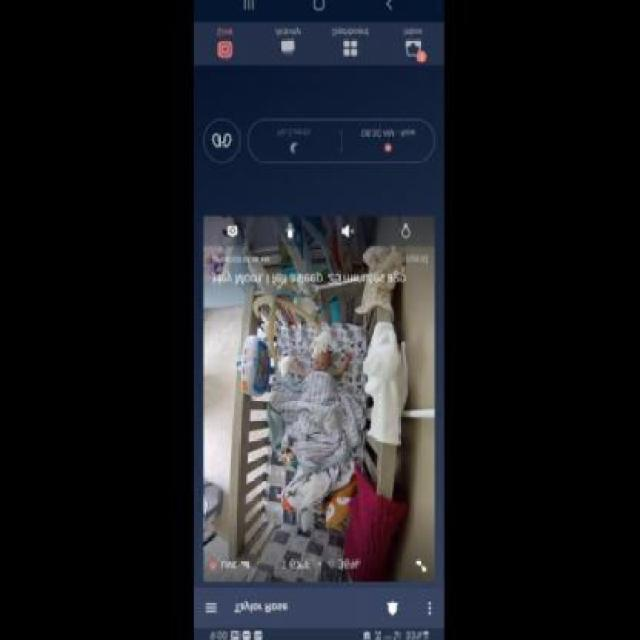baby: (293, 348, 352, 466)
